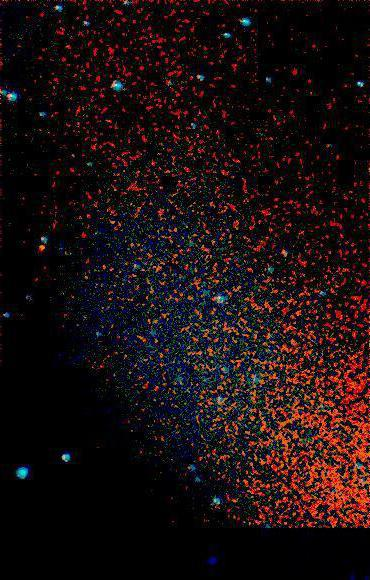star: (29, 234, 59, 264)
